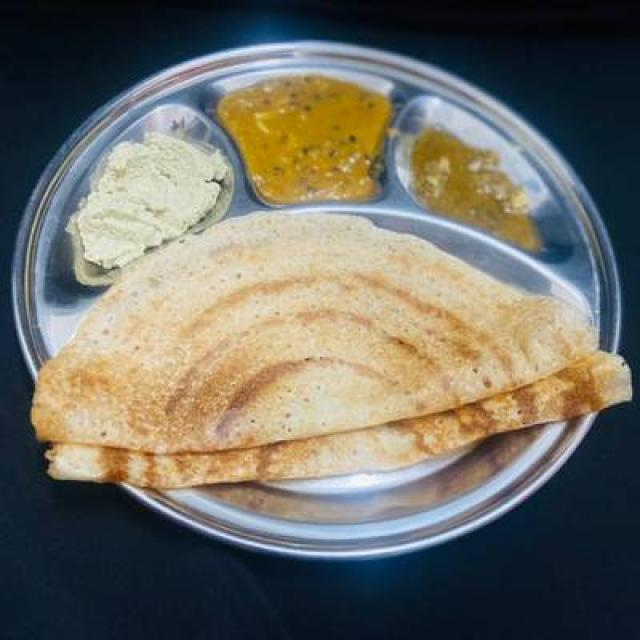DOSA: (31, 208, 634, 497)
